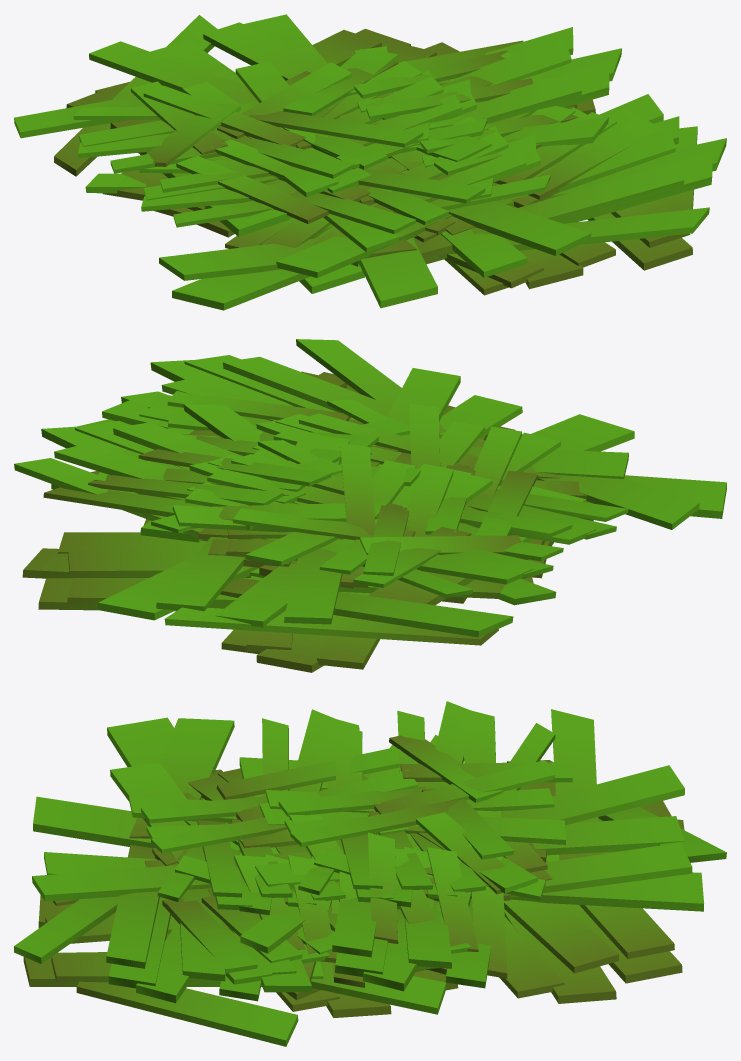
The model's file is LechugaPicada.fbx.
3 views of the same model, one above another, from view 1: azimuth 30°, elevation 25°; view 2: azimuth 150°, elevation 25°; view 3: azimuth 270°, elevation 25° (orthographic). The views are drawn at different scales.
Visible parts, largest first — view 1: LechugaCortada; view 2: LechugaCortada; view 3: LechugaCortada.
Boxes of the visible parts, x1,y1,x2,y2 form: LechugaCortada: [14, 14, 726, 310]; LechugaCortada: [14, 339, 726, 672]; LechugaCortada: [14, 701, 726, 1046].
Bounding box in the file's own units: 21.64 × 2.77 × 21.45.
Materials: 1 (1 with a texture image).
